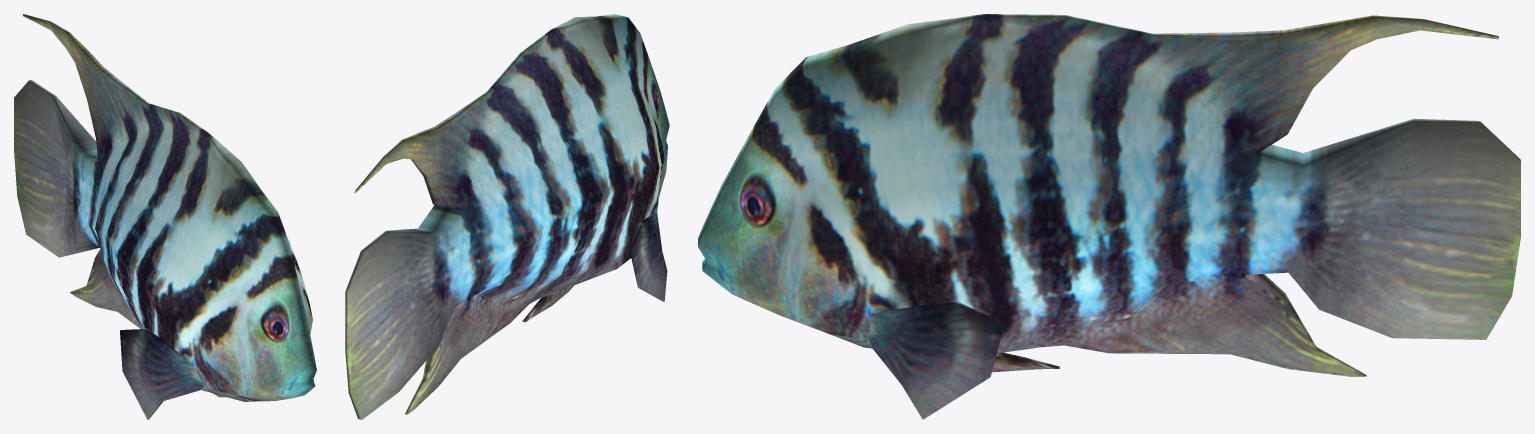
File: fish6.glb
3 views of the same model, side by side, from view 1: azimuth 30°, elevation 25°; view 2: azimuth 150°, elevation 25°; view 3: azimuth 270°, elevation 25° (orthographic). The views are drawn at different scales.
Parts seen in each view (by area): view 1: Asset3DLoader.sceneRoot; view 2: Asset3DLoader.sceneRoot; view 3: Asset3DLoader.sceneRoot.
Part boxes in pixels (x1,y1,x2,y2): Asset3DLoader.sceneRoot: (14,14,316,419); Asset3DLoader.sceneRoot: (345,14,669,419); Asset3DLoader.sceneRoot: (698,14,1520,419).
Bounding box in the file's own units: 153 × 228 × 471.
1 material, 1 textured.
